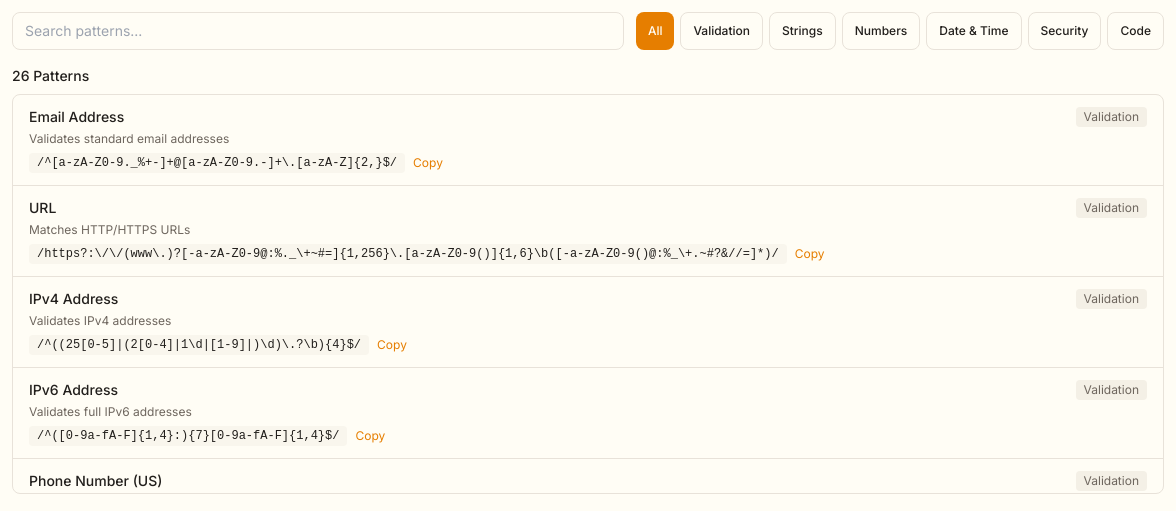
Test: RegexLibrary › filters patterns by category
# Click the filter button (first one)
Click the button "Security" at (1064, 31), box [1028,12,1101,50]
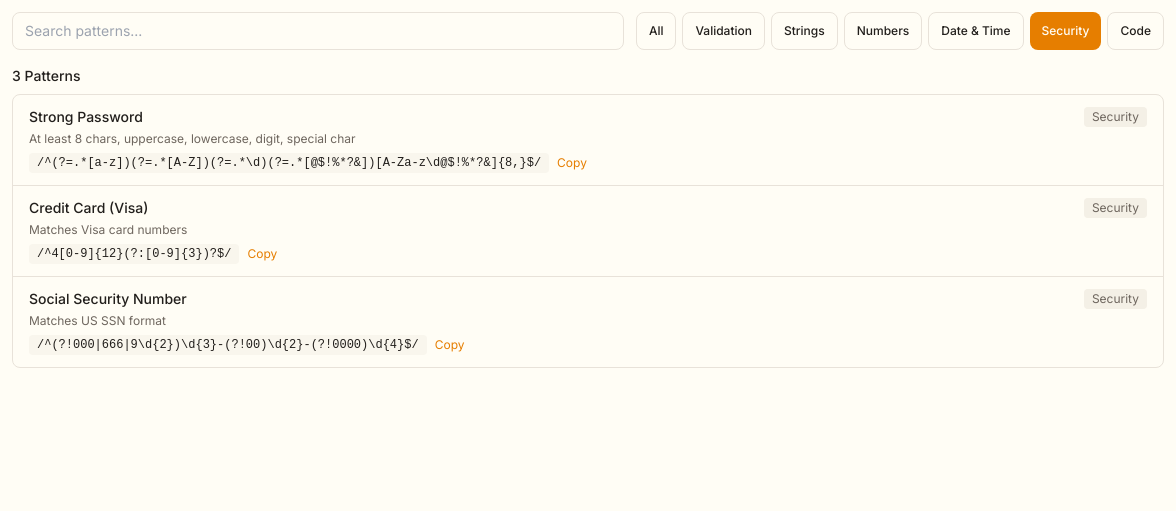
Expected: the text "Credit Card (Visa)" is shown, [29,198,148,218]
Expected: the text "Strong Password" is shown, [29,107,143,127]
